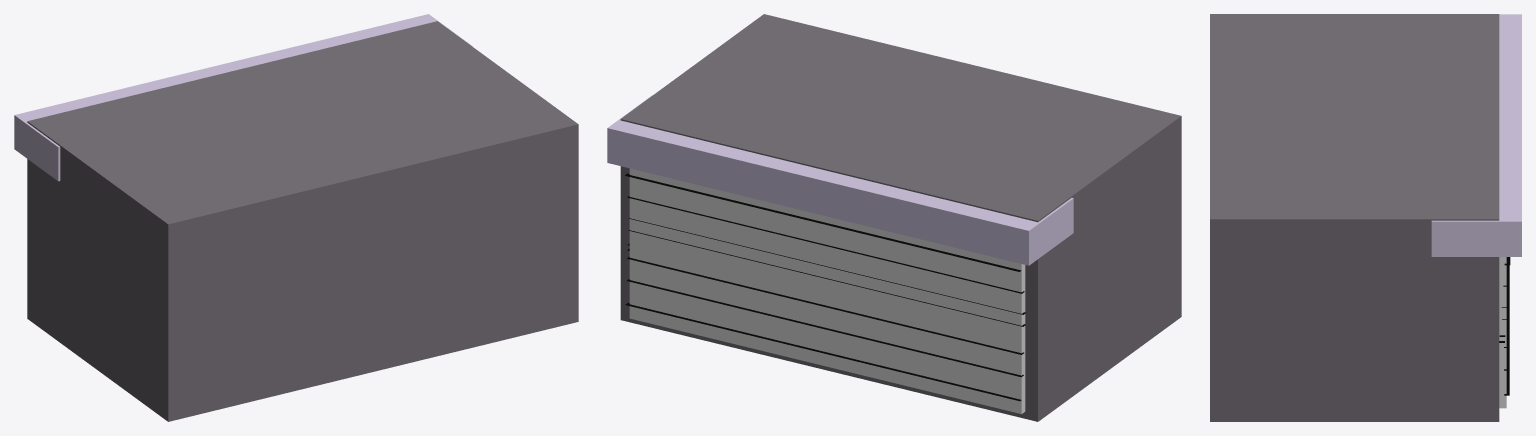
3 renders of one model, left to right at view 1: azimuth 30°, elevation 25°; view 2: azimuth 150°, elevation 25°; view 3: azimuth 270°, elevation 25°, orthographic. The views are drawn at different scales.
Parts seen in each view (by area): view 1: Cube, Cube.001; view 2: Cube, Cube.002, Cube.001, Cube.004, Cube.011, Cube.010, Cube.007, Cube.003, Cube.009; view 3: Cube, Cube.001, Cube.002.
Boxes of the visible parts, left/top/right/bottom form: Cube: left=27, top=21, right=578, bottom=421; Cube.001: left=14, top=14, right=472, bottom=181; Cube: left=620, top=14, right=1181, bottom=421; Cube.002: left=629, top=168, right=1025, bottom=413; Cube.001: left=607, top=95, right=1073, bottom=265; Cube.004: left=625, top=173, right=1021, bottom=271; Cube.011: left=625, top=302, right=1021, bottom=401; Cube.010: left=627, top=279, right=1023, bottom=377; Cube.007: left=627, top=256, right=1023, bottom=354; Cube.003: left=627, top=196, right=1024, bottom=293; Cube.009: left=628, top=230, right=1025, bottom=326; Cube: left=1210, top=14, right=1499, bottom=421; Cube.001: left=1431, top=14, right=1521, bottom=256; Cube.002: left=1499, top=257, right=1506, bottom=408.
Bounding box in the file's own units: 837 × 381 × 531.
